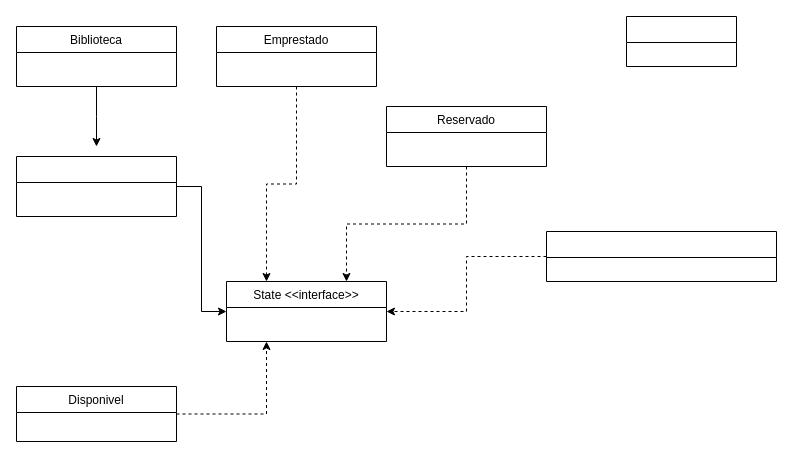
Some shapes in this 793 by 458 pixel diagram are drawn without their labels. The shapes that lost their labels are listed below. From the top down, each one's centre as x and y in pixels, then its label:
point 681,41: Main
point 96,186: Livro
point 661,256: Inventario
